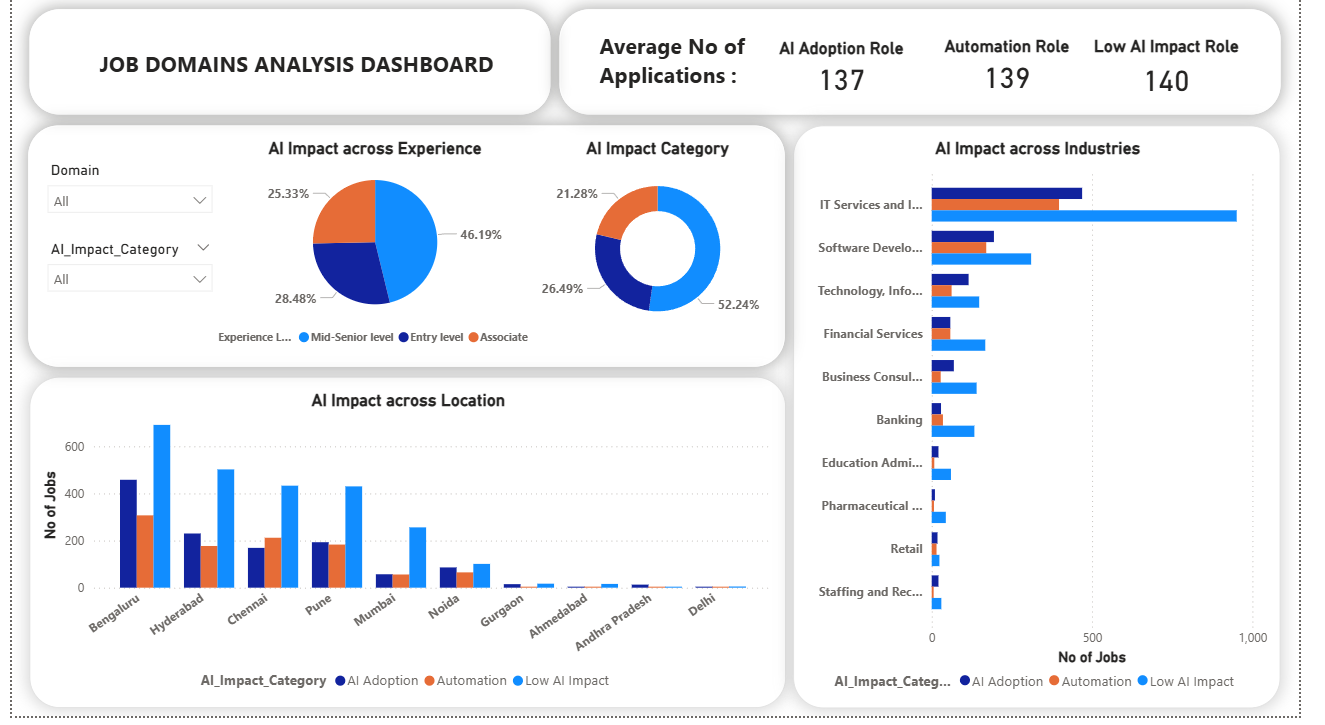

The page's visual inventory and layout, read from the dashboard file:
{"tool":"powerbi","page":{"name":"Page 1","canvas":[1280,720],"ordinal":0},"visuals":[{"type":"shape","box":[17.4,16.2,518.7,104.5],"z":0},{"type":"shape","box":[544.9,16.2,717.8,104.5],"z":1000},{"type":"clusteredColumnChart","title":" AI Impact across Location","fields":{"Category":["final_file.City"],"Y":["CountNonNull(final_file.AI_Impact_Category)"],"Series":["final_file.AI_Impact_Category"]},"box":[17.4,381.9,752.6,329.6],"z":2000},{"type":"clusteredBarChart","title":"AI Impact across Industries","fields":{"Category":["final_file.Industry"],"Series":["final_file.AI_Impact_Category"],"Y":["CountNonNull(final_file.AI_Impact_Category)"]},"box":[777.5,131.9,485.1,579.7],"z":3000},{"type":"card","title":"Low AI Impact Role","fields":{"Values":["Avg(final_file.No of Applications)"]},"box":[1068.6,42.3,160.5,68.4],"z":4000},{"type":"card","title":"Automation Role","fields":{"Values":["Avg(final_file.No of Applications)"]},"box":[911.8,31.1,156.7,79.6],"z":5000},{"type":"card","title":"AI Adoption Role","fields":{"Values":["Avg(final_file.No of Applications)"]},"box":[738.9,32.3,172.9,79.6],"z":6000},{"type":"shape","box":[16.2,131.9,752.6,240.1],"z":7000},{"type":"donutChart","title":" AI Impact Category ","fields":{"Category":["final_file.AI_Impact_Category"],"Y":["CountNonNull(final_file.AI_Impact_Category)"]},"box":[515,131.9,255,221.4],"z":8000},{"type":"pieChart","title":" AI Impact across Experience","fields":{"Category":["final_file.Experience Level"],"Y":["CountNonNull(final_file.AI_Impact_Category)"]},"box":[186.6,131.9,349.6,235.1],"z":9000},{"type":"slicer","fields":{"Values":["final_file.Domain"]},"box":[18.7,155.5,197.8,78.4],"z":10000},{"type":"slicer","fields":{"Values":["final_file.AI_Impact_Category"]},"box":[18.7,233.9,197.8,87.1],"z":11000},{"type":"textbox","box":[579.7,32.3,172.9,79.6],"z":12000},{"type":"textbox","box":[82.1,51,414.2,49.8],"z":13000}]}

Visuals, with their boxes in screenshot pixels (x1, y1, x2, y2), scaled from the page's 1280x720 canvas onto the 1325x725 screenshot:
shape: box=[18, 16, 555, 122]
shape: box=[564, 16, 1307, 122]
" AI Impact across Location" clusteredColumnChart: box=[18, 385, 797, 716]
"AI Impact across Industries" clusteredBarChart: box=[805, 133, 1307, 717]
"Low AI Impact Role" card: box=[1106, 43, 1272, 111]
"Automation Role" card: box=[944, 31, 1106, 111]
"AI Adoption Role" card: box=[765, 33, 944, 113]
shape: box=[17, 133, 796, 375]
" AI Impact Category " donutChart: box=[533, 133, 797, 356]
" AI Impact across Experience" pieChart: box=[193, 133, 555, 370]
slicer - final_file.Domain: box=[19, 157, 224, 236]
slicer - final_file.AI_Impact_Category: box=[19, 236, 224, 323]
textbox: box=[600, 33, 779, 113]
textbox: box=[85, 51, 514, 102]
